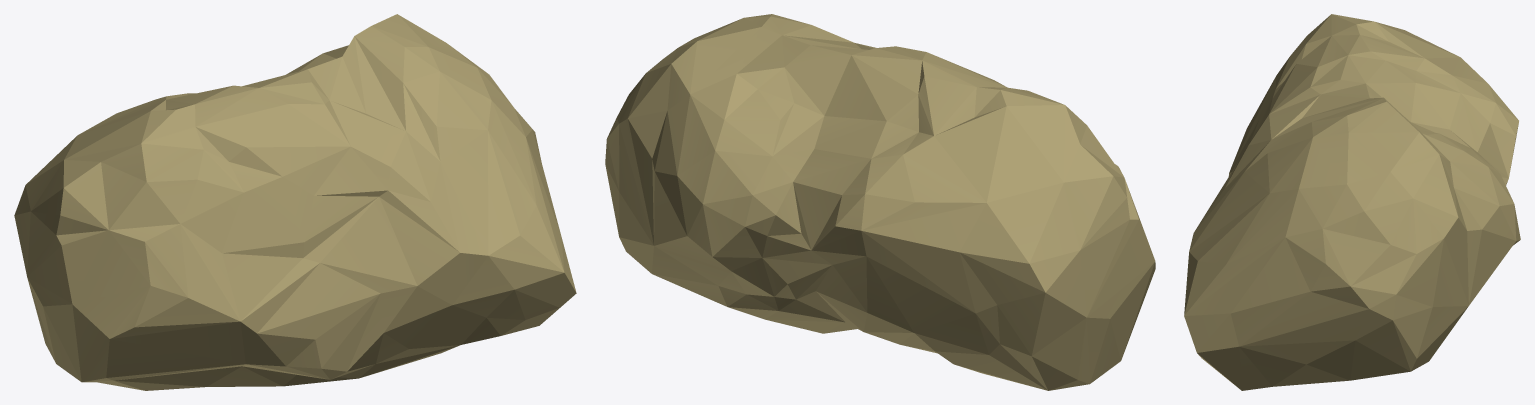
Rendered from SM_rock_65.fbx.
3 views of the same model, side by side, from view 1: azimuth 30°, elevation 25°; view 2: azimuth 150°, elevation 25°; view 3: azimuth 270°, elevation 25° (orthographic). The views are drawn at different scales.
Parts seen in each view (by area): view 1: rock_65; view 2: rock_65; view 3: rock_65.
Boxes of the visible parts, x1,y1,x2,y2 form: rock_65: [14, 14, 576, 390]; rock_65: [605, 14, 1155, 390]; rock_65: [1184, 14, 1520, 390].
Bounding box in the file's own units: 206 × 118 × 133.
